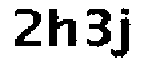2: (11, 7, 44, 49)
3: (86, 8, 112, 49)
h: (47, 7, 79, 52)
j: (112, 4, 132, 60)
